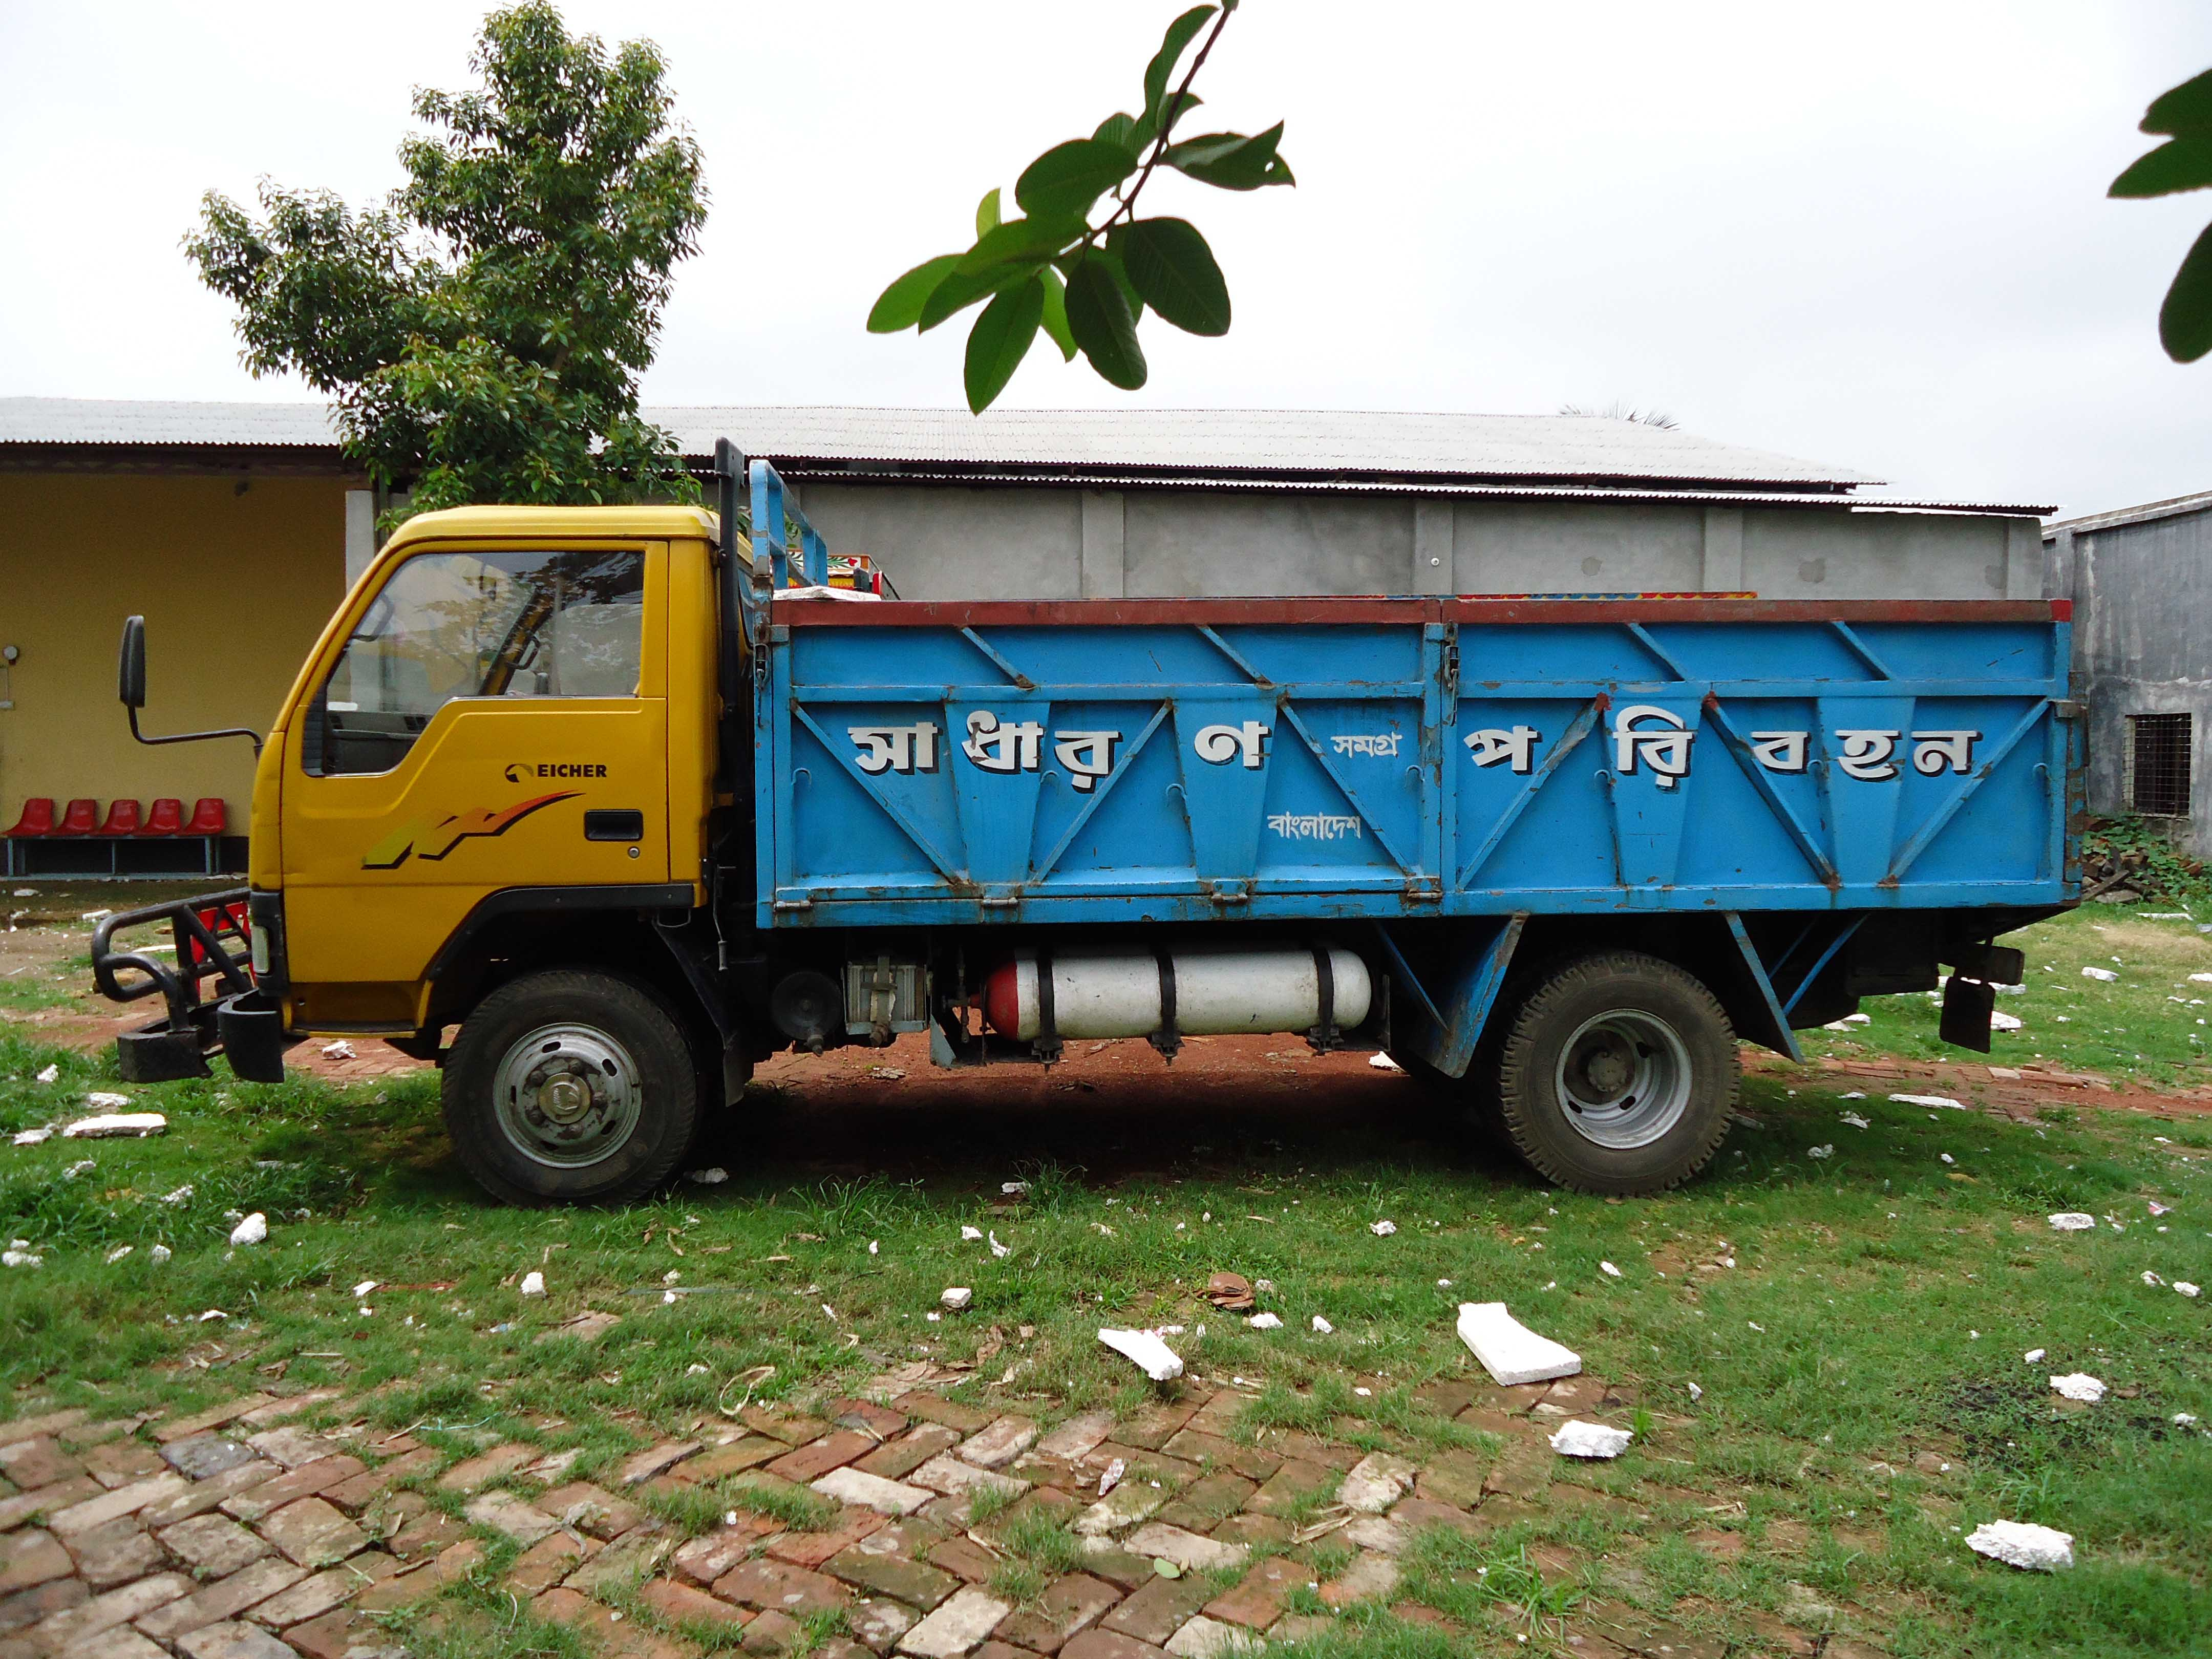truck: (197, 481, 2092, 1223)
